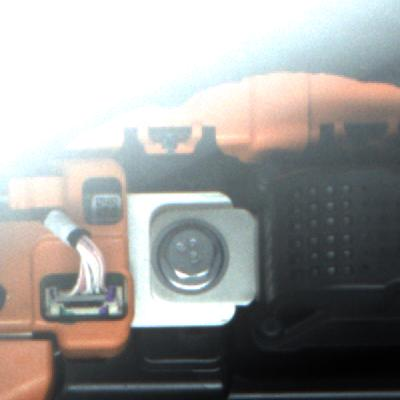nut_b: (145, 215, 229, 299)
